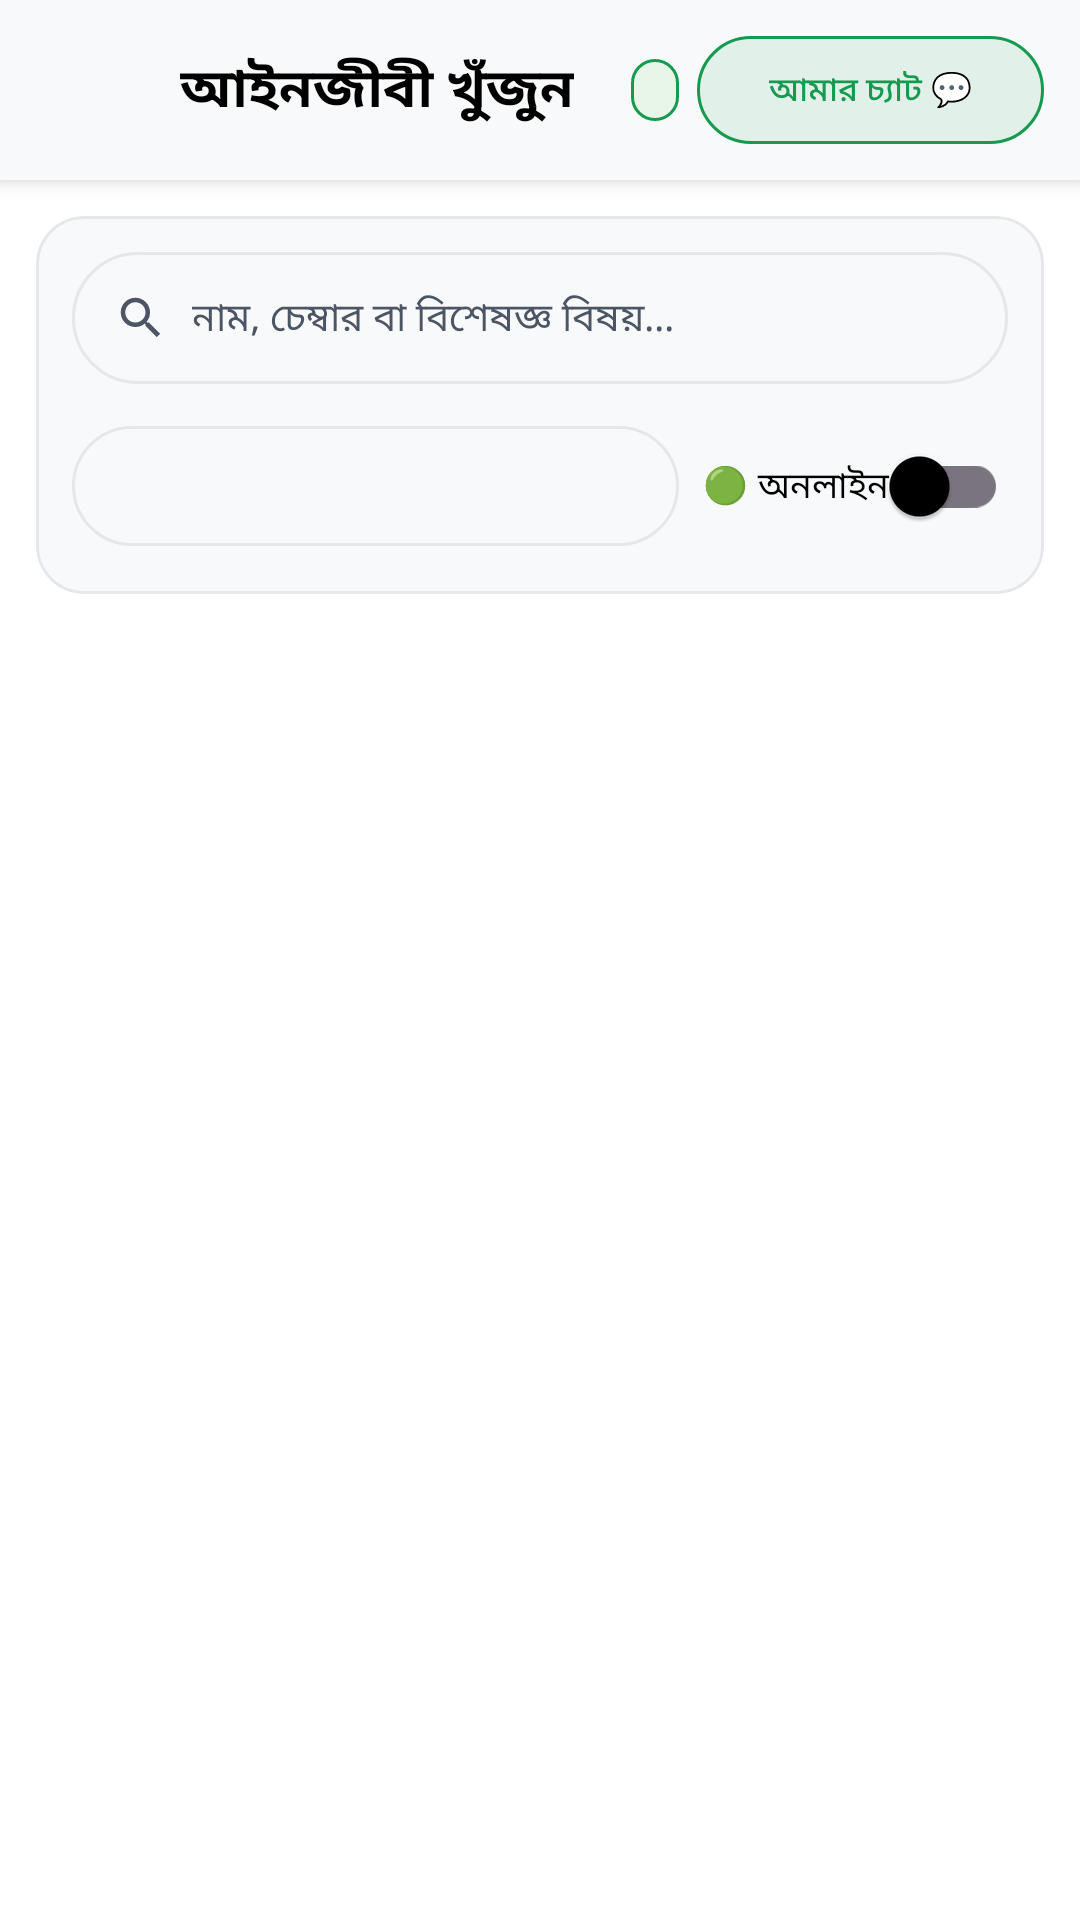

Where to tap for icons on this 1080px x 1920px app screen, as (x=x, y=y):
search: (x=140, y=317)
